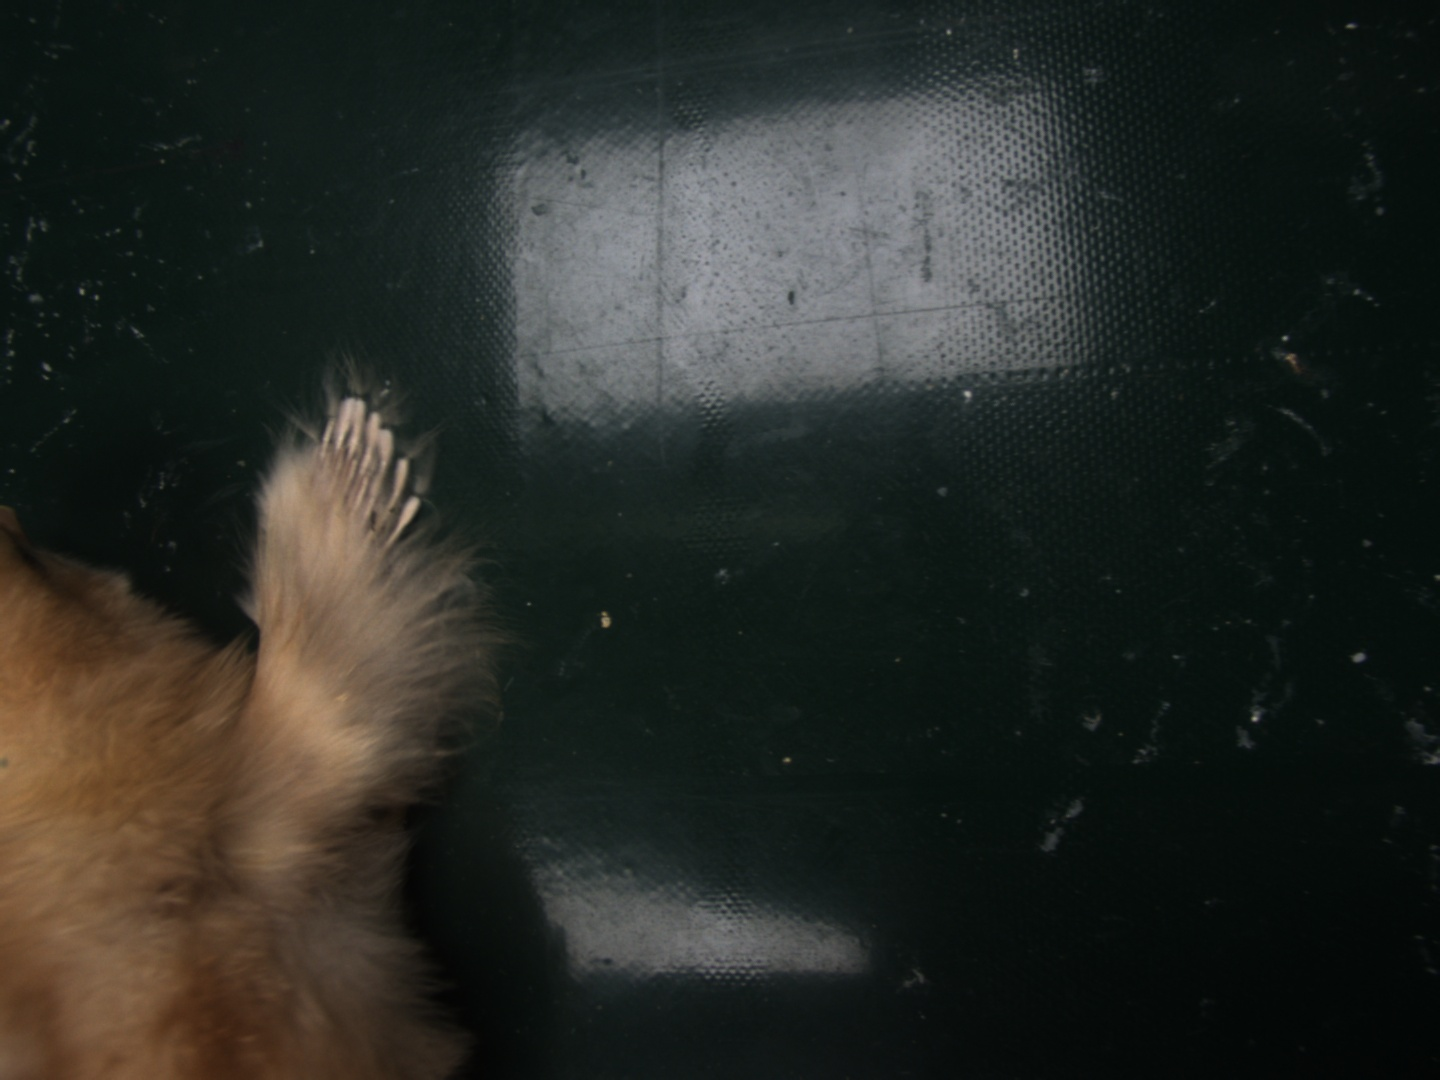female: (306, 396, 421, 551)
